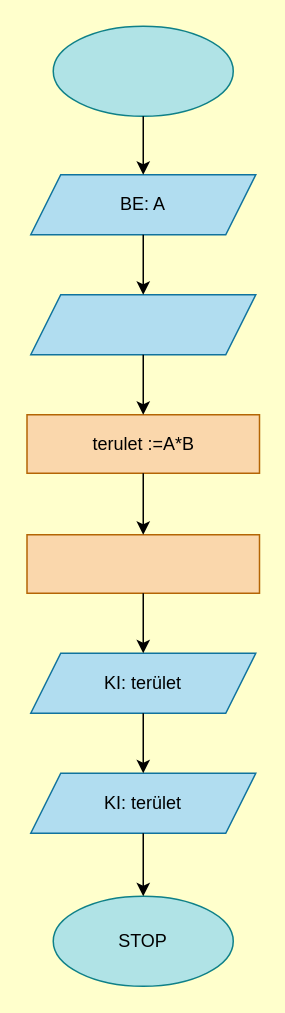
Some shapes in this 285 by 1013 pixel diagram are drawn without their labels. The shapes that lost their labels are listed below. From the top down, each one's box as (x1, y1, x2, y2) in pixels, then its label:
(52, 25, 233, 116): START
(29, 293, 256, 355): BE: B
(26, 533, 260, 593): kerulet :=2*A + 2*B
